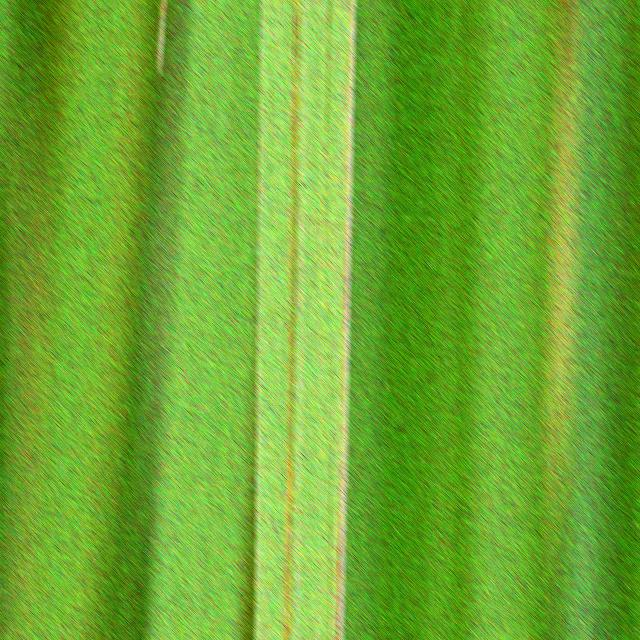BLS: (335, 0, 355, 640), (283, 0, 300, 640), (323, 0, 331, 240), (278, 0, 282, 10)
